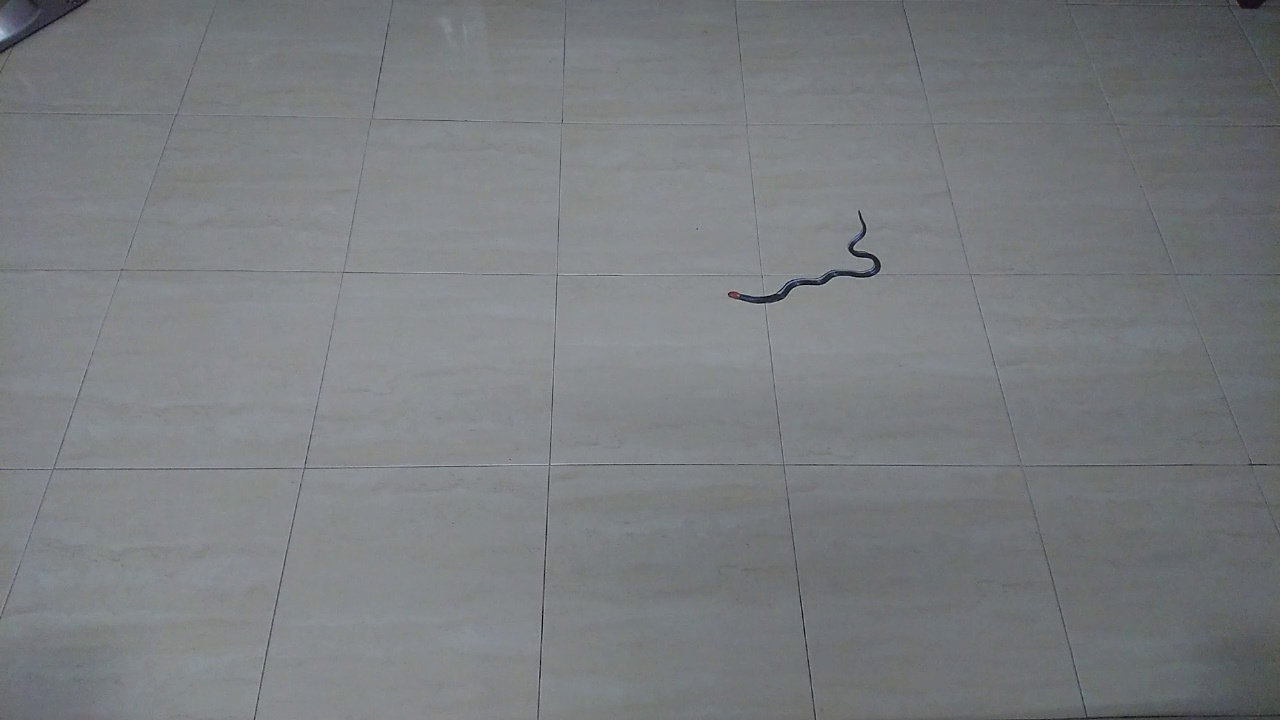snake: (713, 198, 891, 317)
